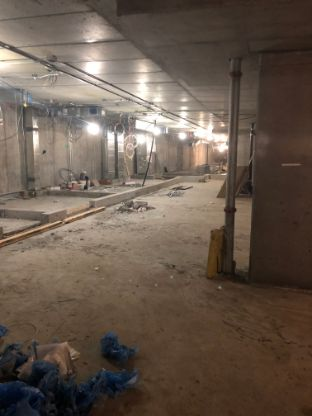Duct: (20, 97, 100, 197), (105, 122, 129, 181), (132, 116, 163, 135)
